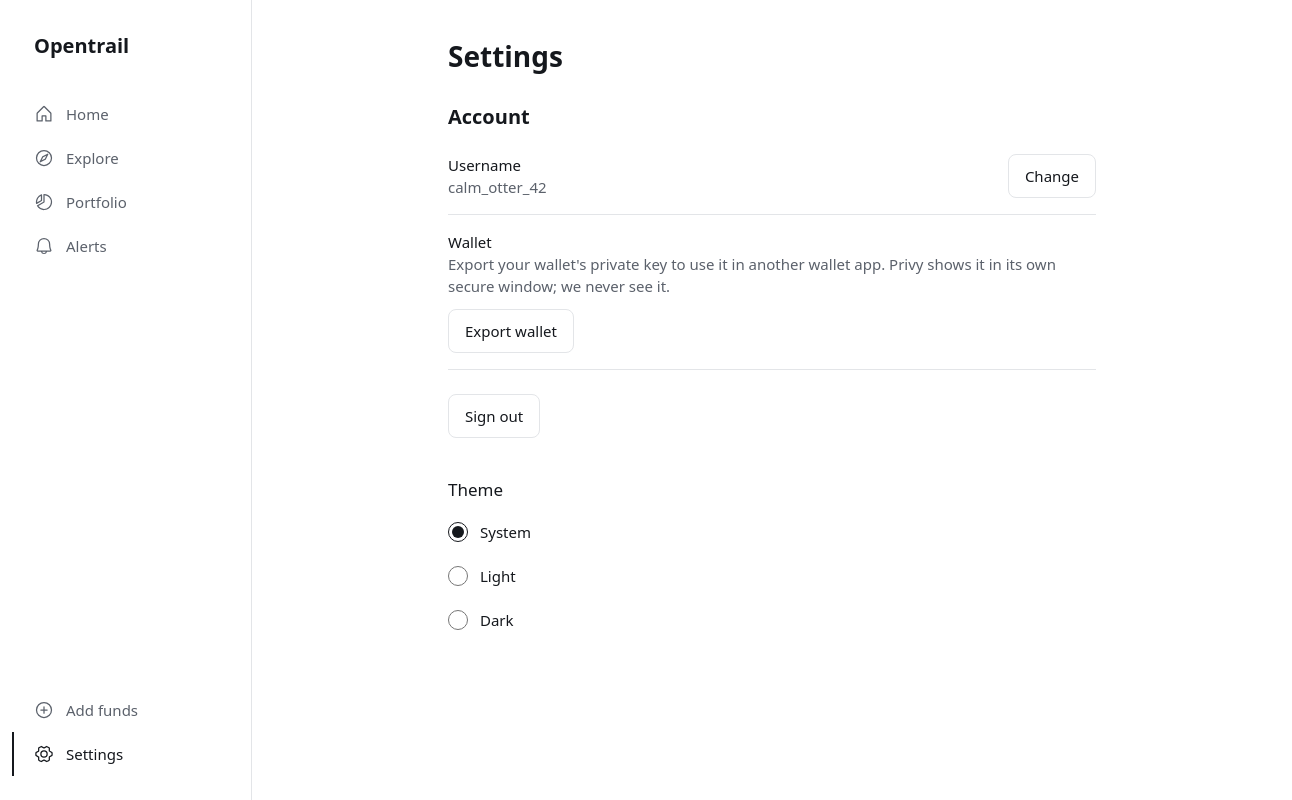
it: the Account section › signs out and goes back to the landing page
The width and height of the screenshot is (1292, 800).
Expected: the text "calm_otter_42" is shown, [448,176,547,198]
Click the button "Sign out" at (494,416), box [448,394,540,438]
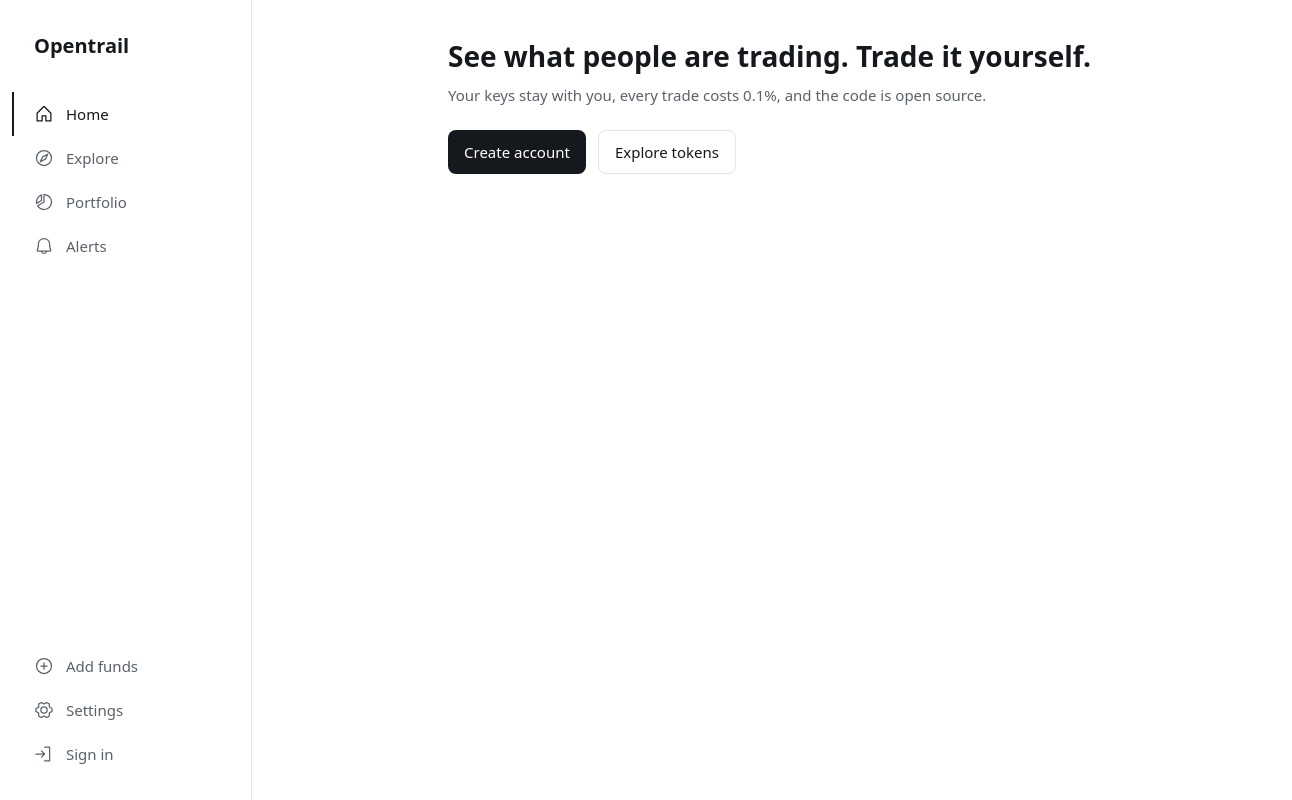
Now the heading "See what people are trading. Trade it yourself." is shown, box [448,40,1096,72]
Now the button "Create account" is shown, box [448,130,586,174]
